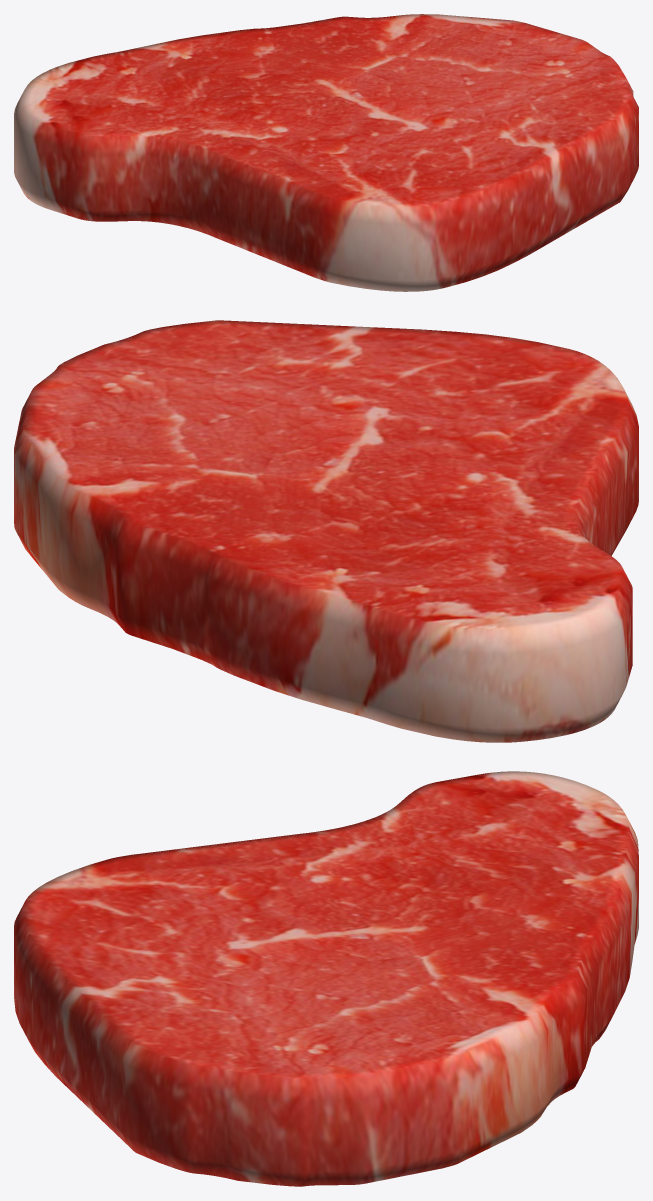
The model's file is Meat.glb.
3 renders of one model, top to bottom at view 1: azimuth 30°, elevation 25°; view 2: azimuth 150°, elevation 25°; view 3: azimuth 270°, elevation 25°, orthographic. The views are drawn at different scales.
Visible parts, largest first — view 1: Steak.003; view 2: Steak.003; view 3: Steak.003.
Boxes of the visible parts, x1,y1,x2,y2 form: Steak.003: (14,14,638,291); Steak.003: (14,320,638,742); Steak.003: (14,771,638,1186).
Size of the model in its own units: 0.3538 by 0.0561 by 0.296.
Materials: 1 (1 with a texture image).
